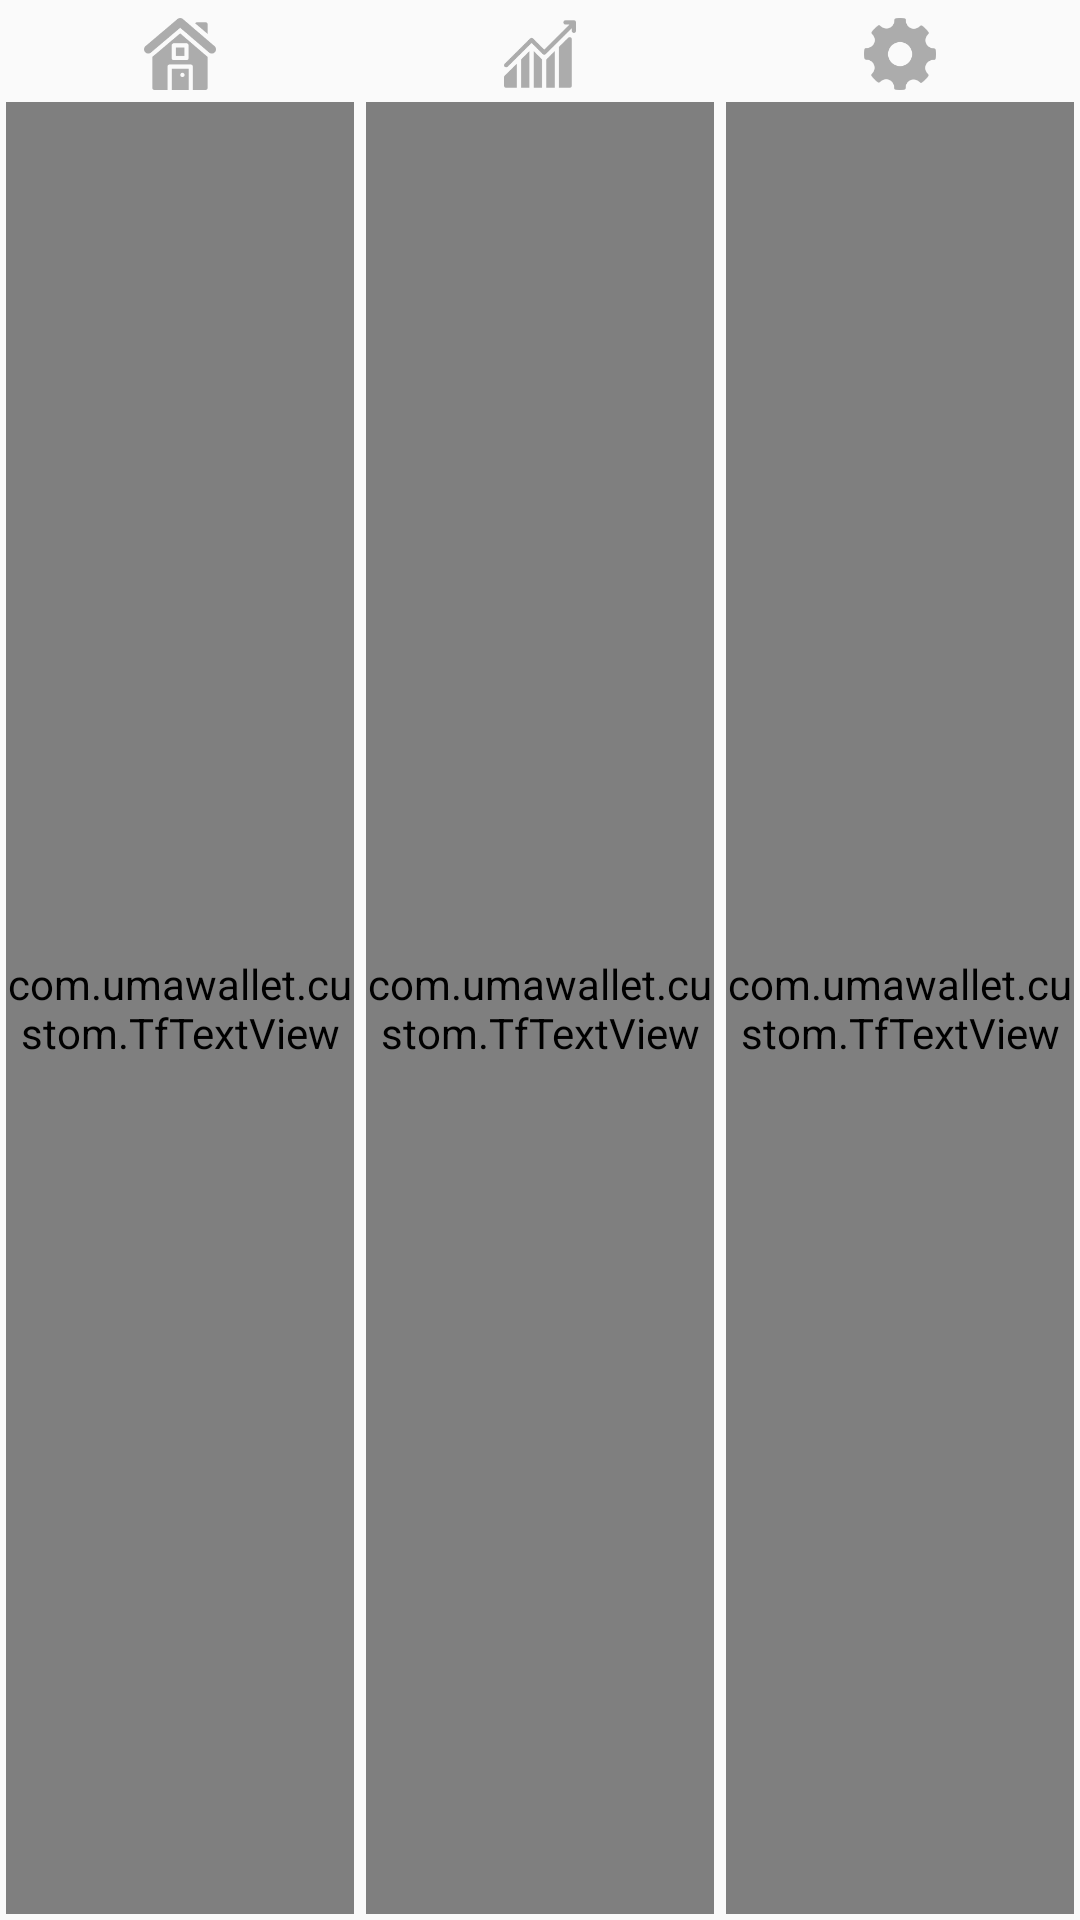

Where to tap for icons on this 1080×1920 app screen, as (x,y):
home: (180,54)
setting: (900,54)
state: (540,54)
